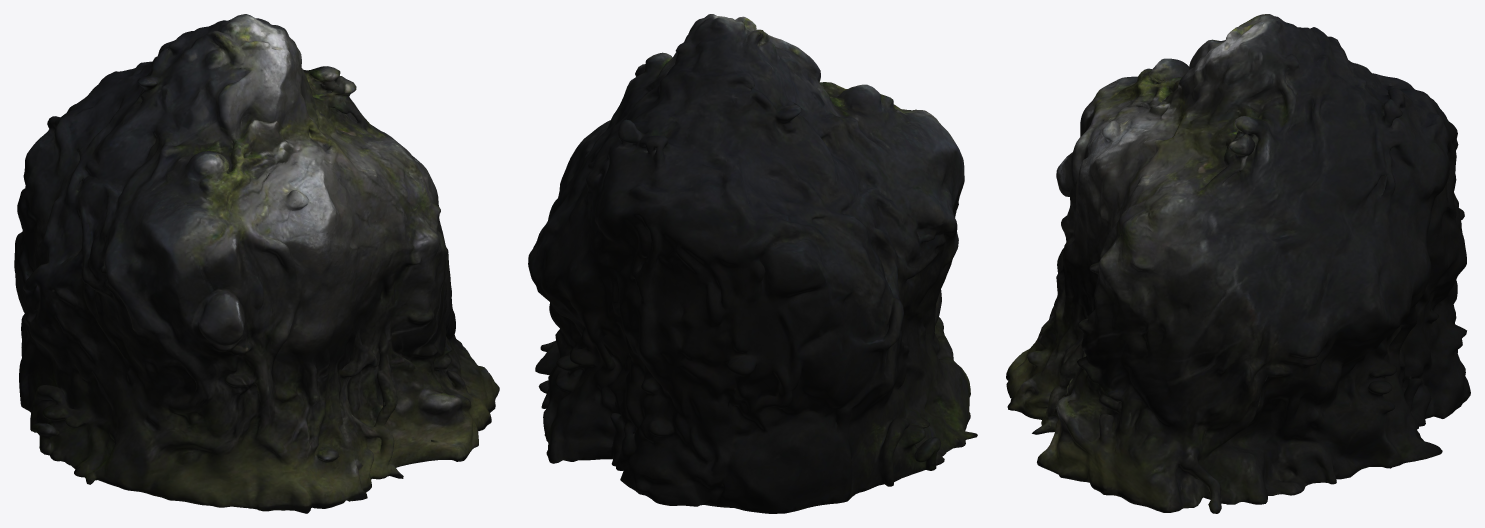
The model's file is tree_a.glb.
3 renders of one model, left to right at view 1: azimuth 30°, elevation 25°; view 2: azimuth 150°, elevation 25°; view 3: azimuth 270°, elevation 25°, orthographic. The views are drawn at different scales.
Size of the model in its own units: 2 by 1.8 by 1.93.
1 material, 1 textured.
